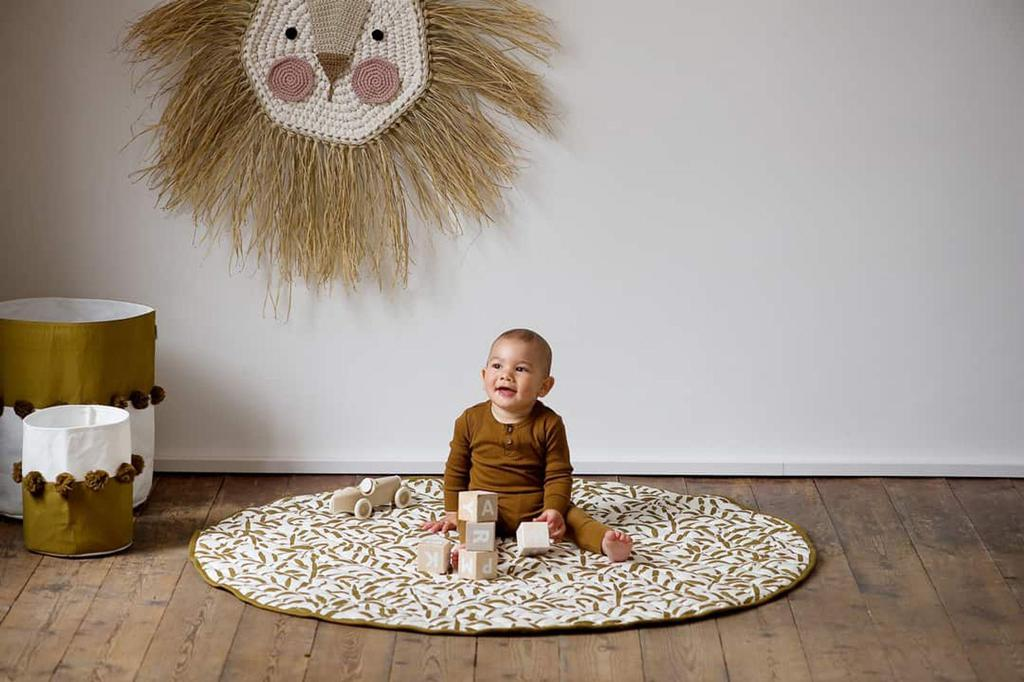child: (418, 324, 643, 566)
